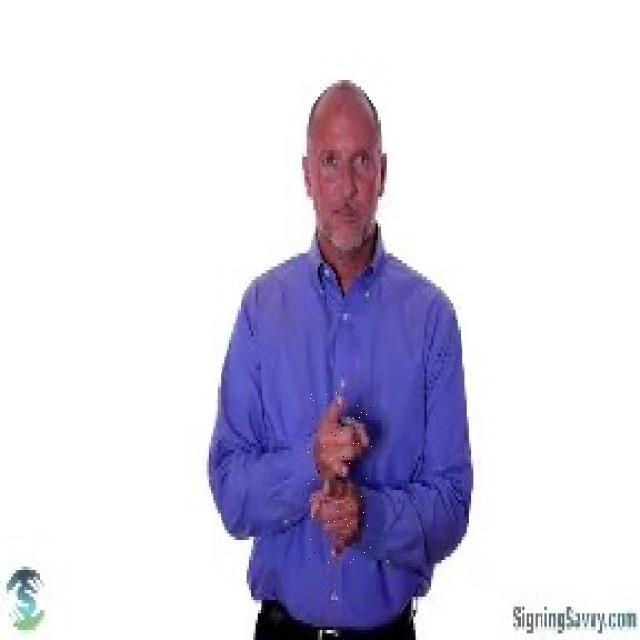alcohol: (308, 390, 372, 566)
